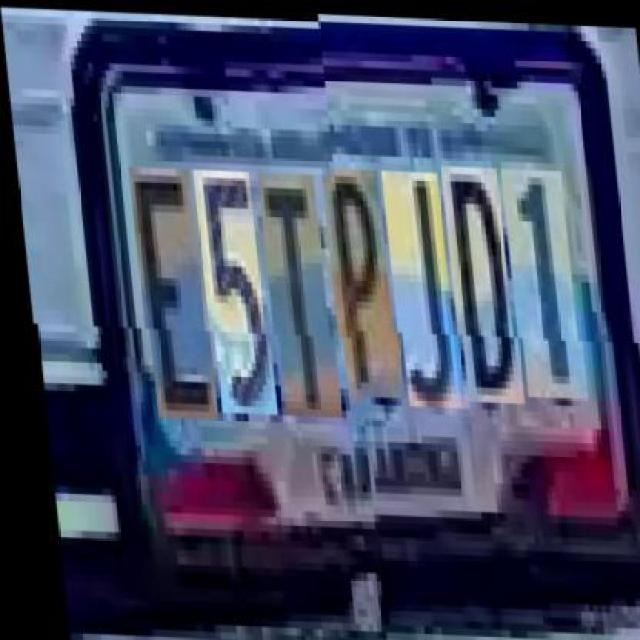1: (502, 170, 582, 402)
5: (193, 169, 270, 413)
d: (441, 169, 517, 406)
e: (129, 166, 209, 419)
j: (383, 175, 459, 412)
p: (321, 172, 397, 403)
t: (258, 170, 334, 415)
